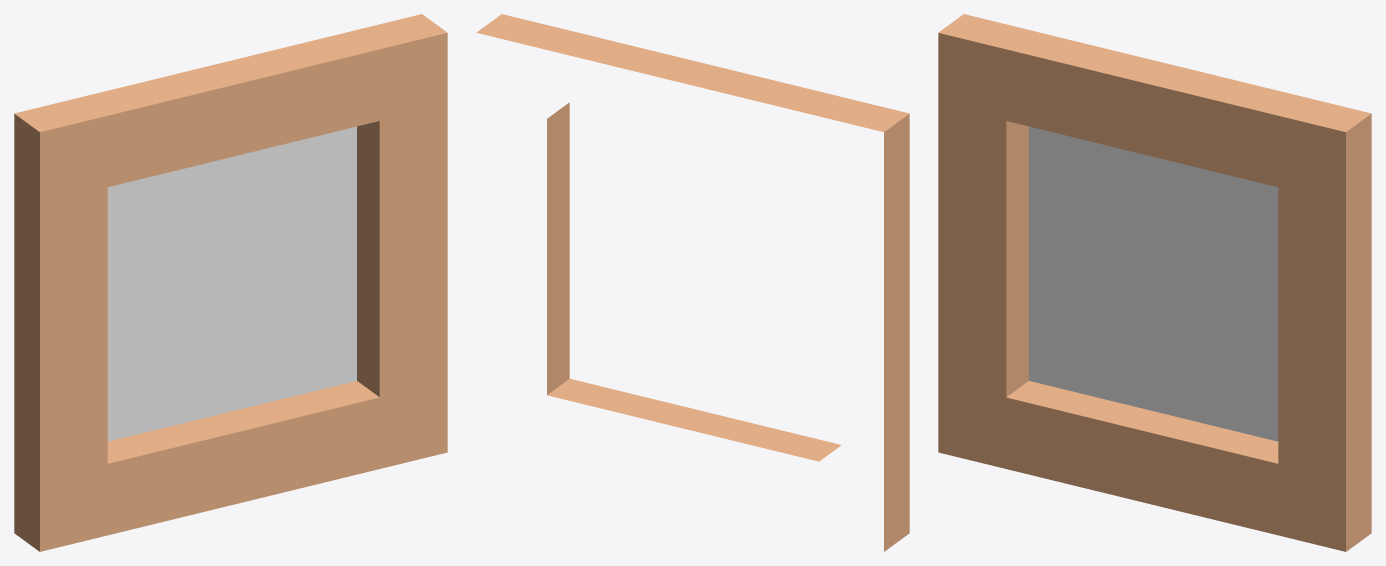
The model's file is DesertWindow.glb.
The picture shows the model from 3 angles, left to right: view 1: azimuth 30°, elevation 25°; view 2: azimuth 150°, elevation 25°; view 3: azimuth 330°, elevation 25°; orthographic projection.
Parts seen in each view (by area): view 1: DesertWindow; view 2: DesertWindow; view 3: DesertWindow.
Part boxes in pixels (box(x1,y1,x2,y2)): DesertWindow: box(14, 14, 447, 551); DesertWindow: box(476, 14, 909, 551); DesertWindow: box(938, 14, 1371, 551).
Size of the model in its own units: 1.56 by 1.54 by 0.1703.
Materials: 1 (1 with a texture image).
